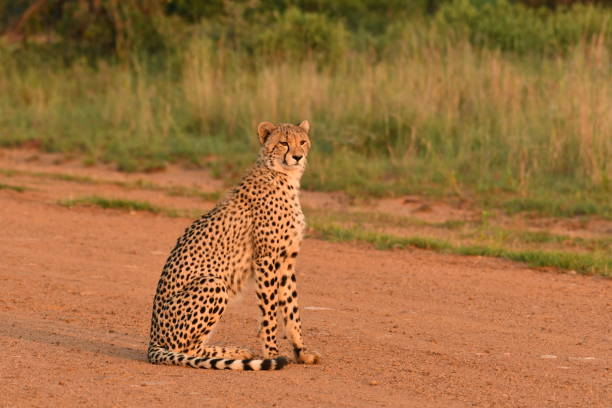cheetah: (248, 115, 320, 176)
